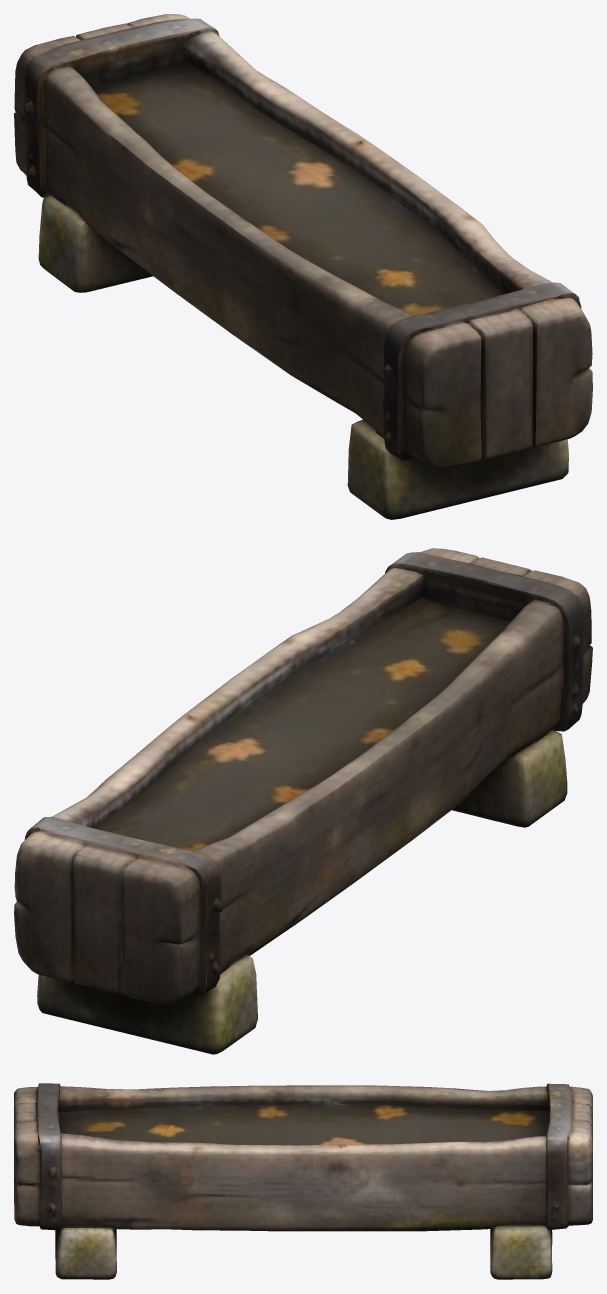
File: prop-trough.glb
The picture shows the model from 3 angles, top to bottom: view 1: azimuth 30°, elevation 25°; view 2: azimuth 150°, elevation 25°; view 3: azimuth 270°, elevation 25°; orthographic projection. The views are drawn at different scales.
Visible parts, largest first — view 1: prop-trough; view 2: prop-trough; view 3: prop-trough.
Part boxes in pixels (<box>): prop-trough: <box>14,14,592,519</box>; prop-trough: <box>14,548,592,1054</box>; prop-trough: <box>14,1083,592,1279</box>.
Bounding box in the file's own units: 0.8867 × 0.8544 × 3.2.
Materials: 1 (1 with a texture image).
